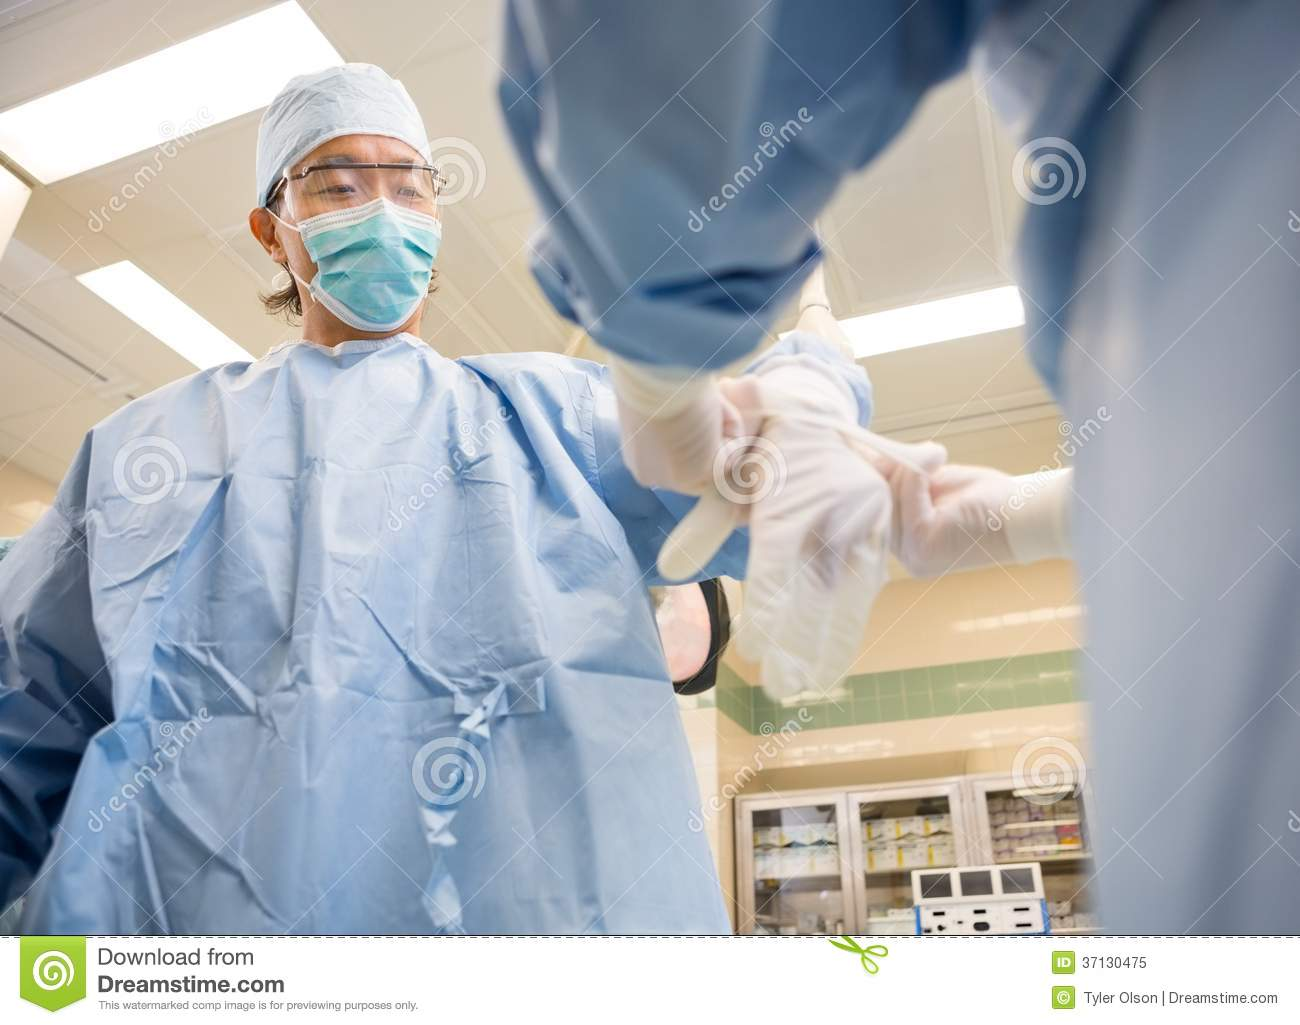mask: (293, 213, 455, 337)
